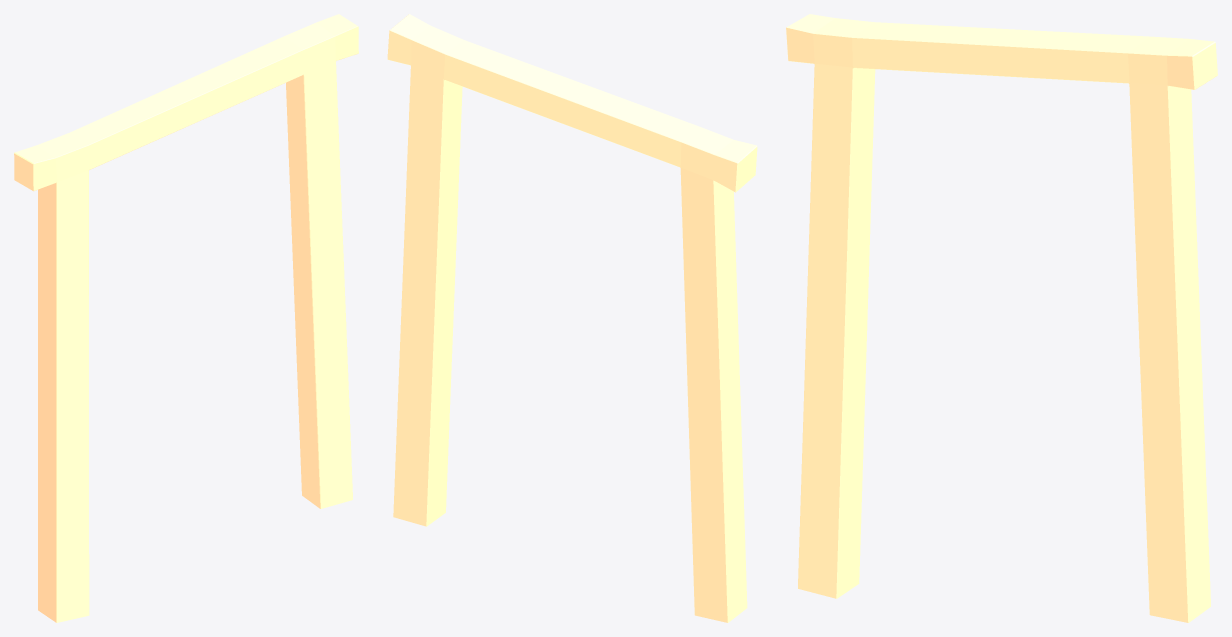
The model's file is Hub Portal.fbx.
The picture shows the model from 3 angles, left to right: view 1: azimuth 30°, elevation 25°; view 2: azimuth 150°, elevation 25°; view 3: azimuth 330°, elevation 25°; orthographic projection. The views are drawn at different scales.
Parts seen in each view (by area): view 1: Cube; view 2: Cube; view 3: Cube.
Boxes of the visible parts, x1,y1,x2,y2 form: Cube: (14, 14, 358, 622); Cube: (387, 14, 757, 622); Cube: (786, 14, 1217, 622).
Size of the model in its own units: 784 by 1150 by 137.
